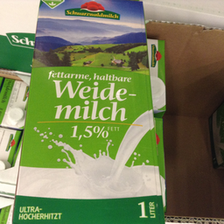milk: (12, 1, 170, 224)
